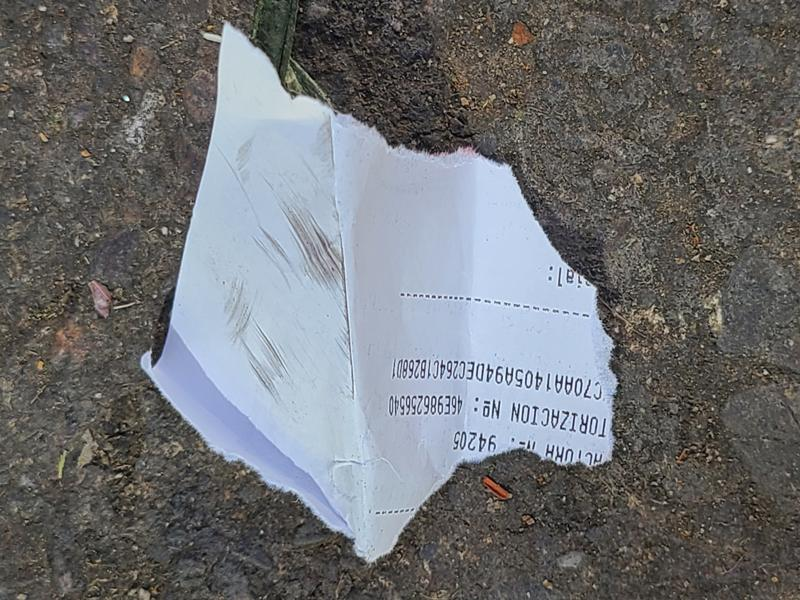papel: (140, 25, 617, 564)
